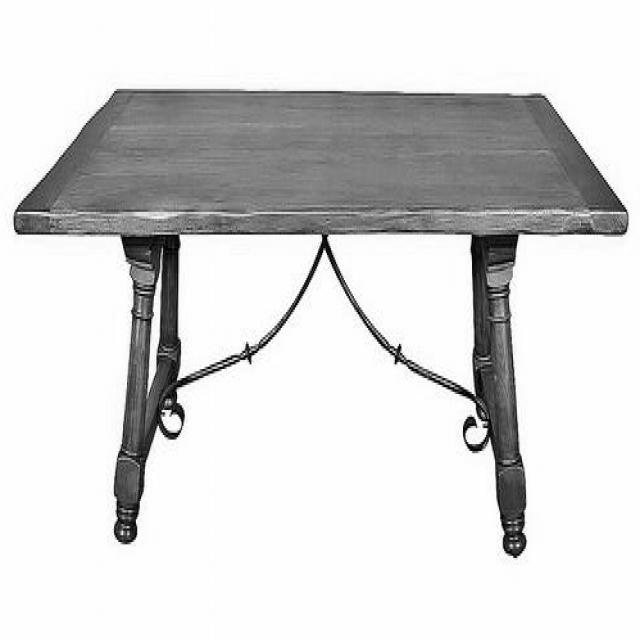table: (13, 88, 631, 560)
